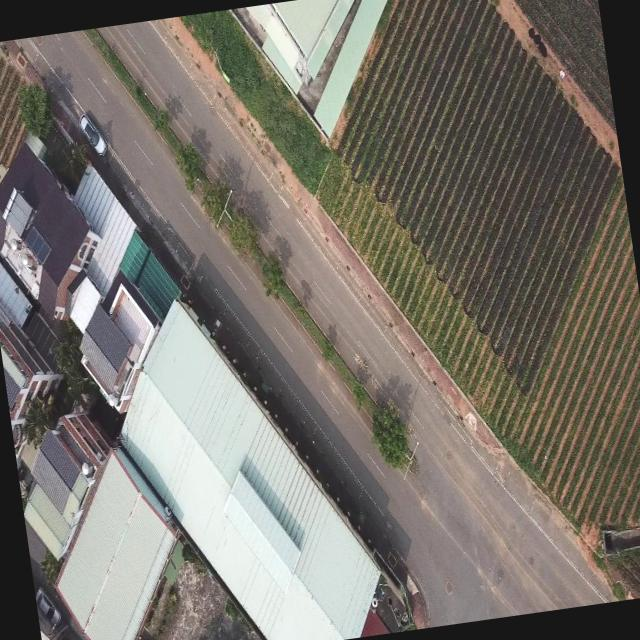car: (78, 110, 108, 160)
